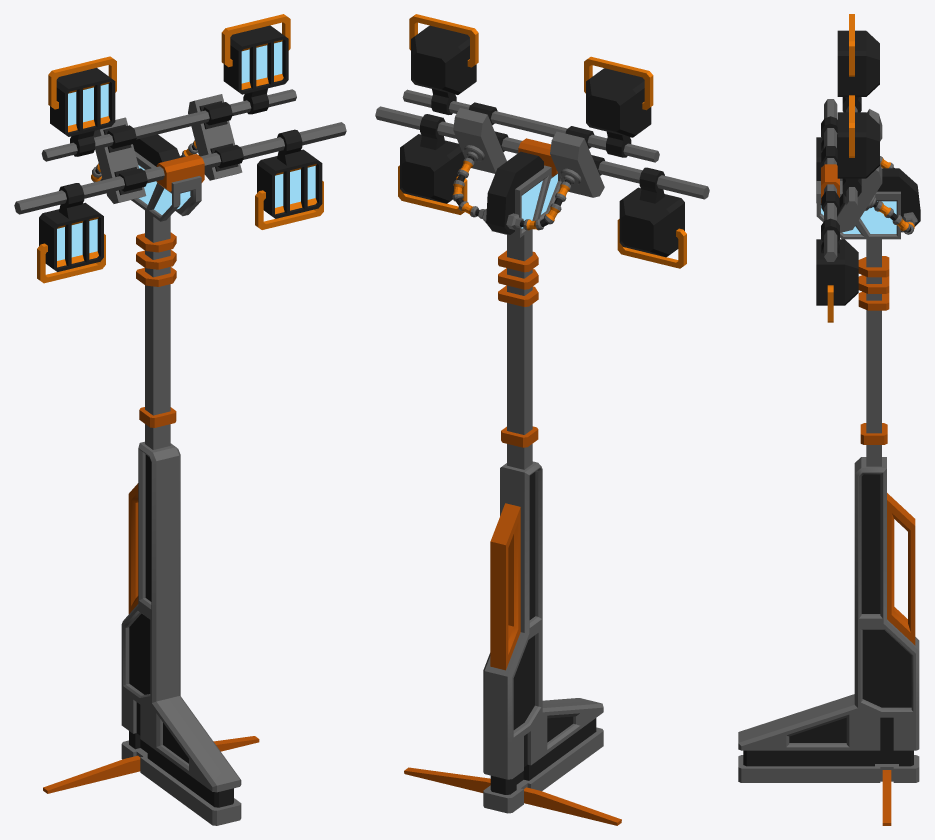
The model's file is Lamp_1.fbx.
The picture shows the model from 3 angles, left to right: view 1: azimuth 30°, elevation 25°; view 2: azimuth 150°, elevation 25°; view 3: azimuth 270°, elevation 25°; orthographic projection. The views are drawn at different scales.
Parts seen in each view (by area): view 1: Lamp; view 2: Lamp; view 3: Lamp.
Part boxes in pixels (bbox=[...]): Lamp: bbox=[14, 14, 346, 825]; Lamp: bbox=[375, 14, 709, 825]; Lamp: bbox=[738, 14, 920, 825].
Size of the model in its own units: 167 by 360 by 84.15.
